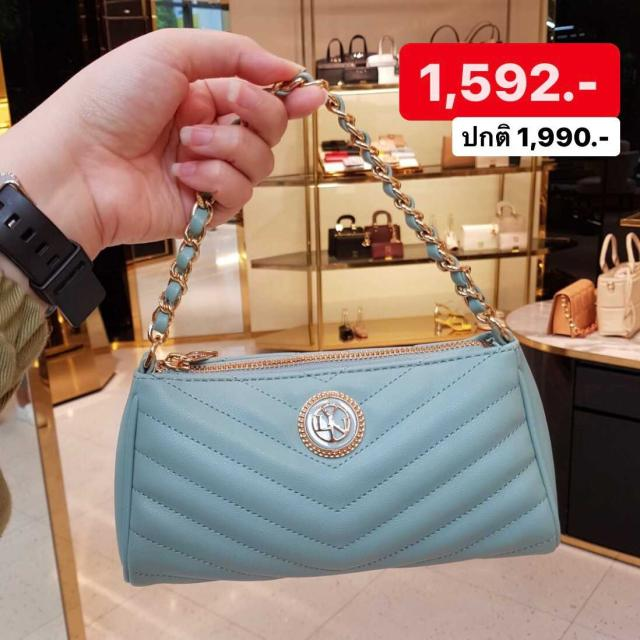Handbag: (115, 282, 563, 590)
